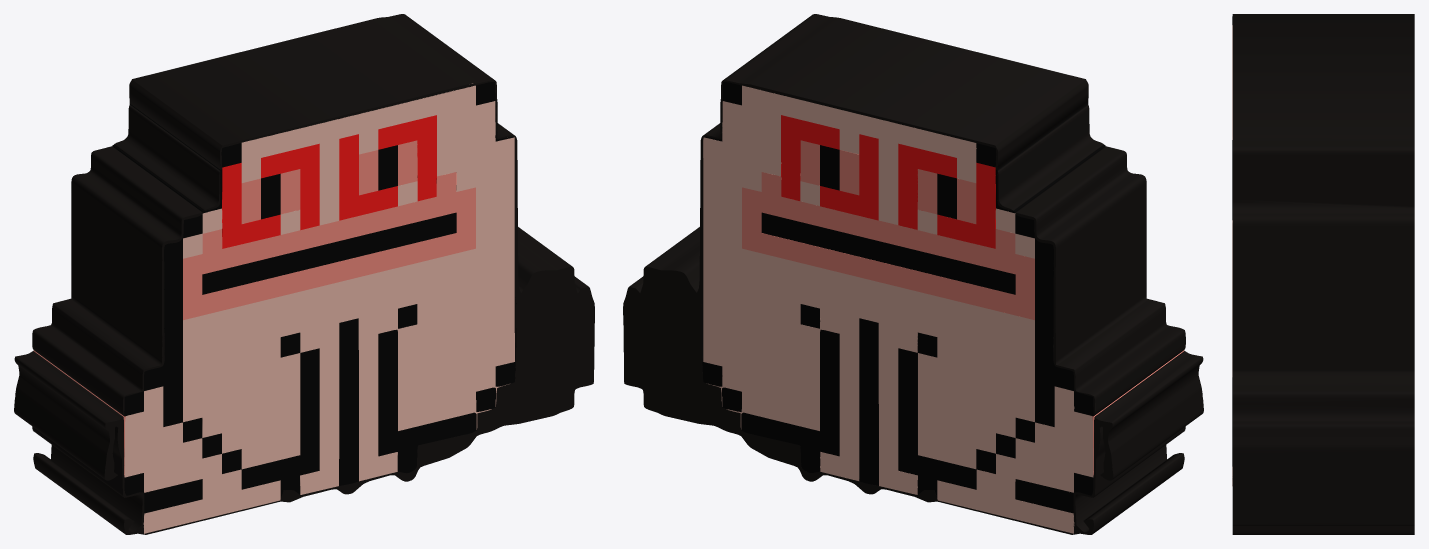
Rendered from Toadz_1747.glb.
3 views of the same model, side by side, from view 1: azimuth 30°, elevation 25°; view 2: azimuth 150°, elevation 25°; view 3: azimuth 270°, elevation 25° (orthographic).
Parts seen in each view (by area): view 1: Curve; view 2: Curve; view 3: Curve.
Boxes of the visible parts, x1,y1,x2,y2 form: Curve: [14, 14, 594, 534]; Curve: [623, 14, 1203, 534]; Curve: [1232, 14, 1414, 534].
Size of the model in its own units: 3.12 by 2.33 by 1.
